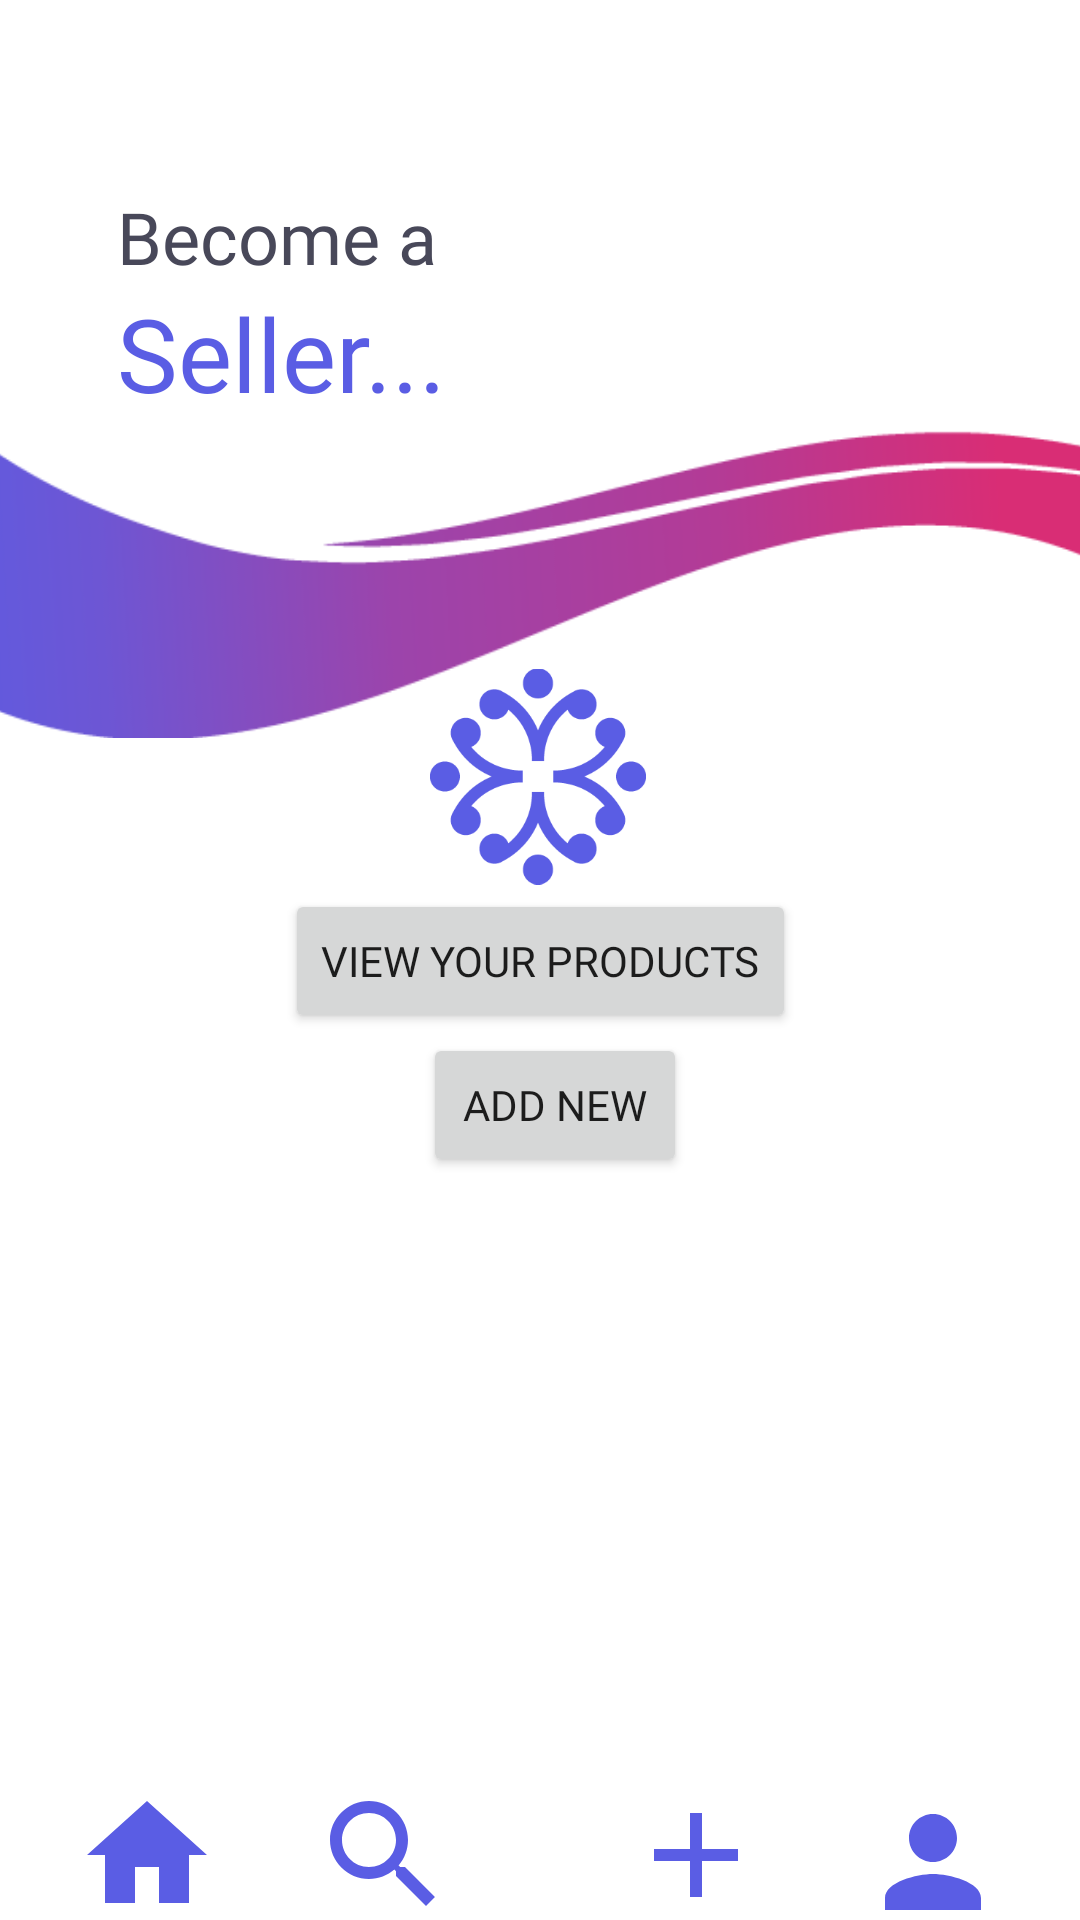

Named icons in this screenshot (1080 x 1920) and their bounding boxes, (x1, y1, x2, y2):
home: (87, 1801, 207, 1903)
plus: (654, 1813, 738, 1897)
profile: (885, 1814, 981, 1910)
search: (330, 1801, 435, 1906)
